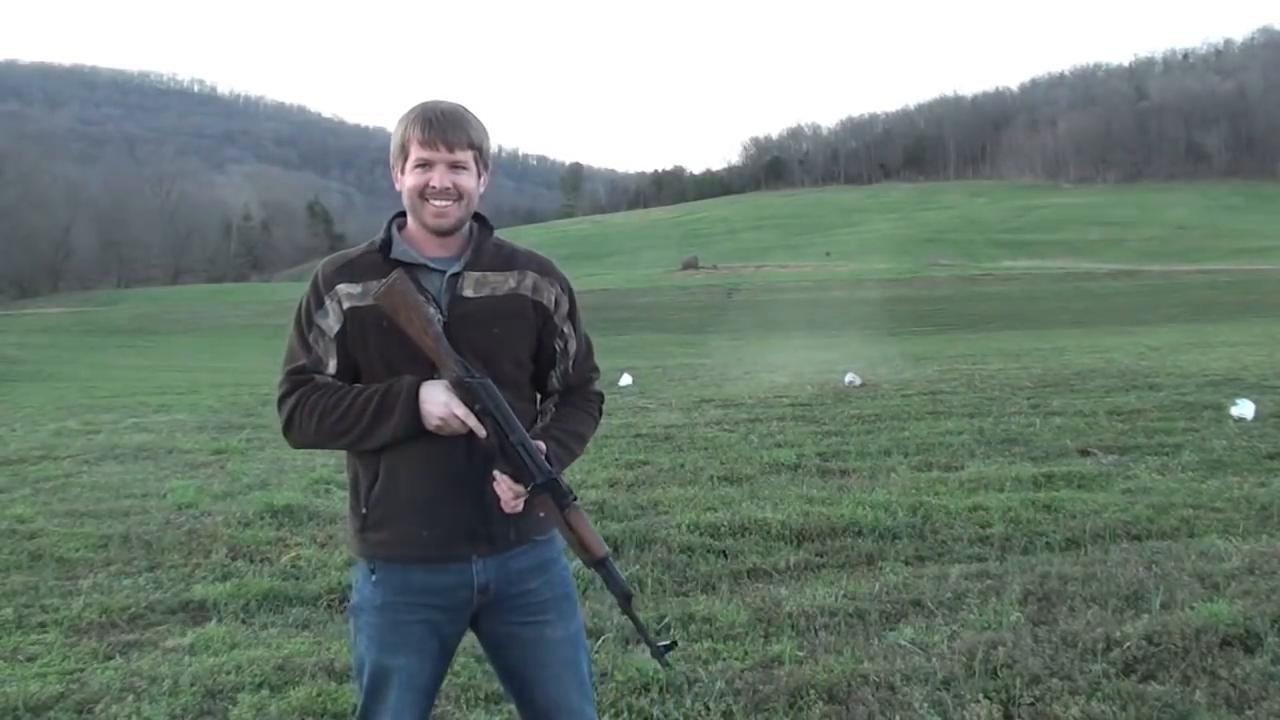AK47 Rifle: (369, 266, 683, 677)
